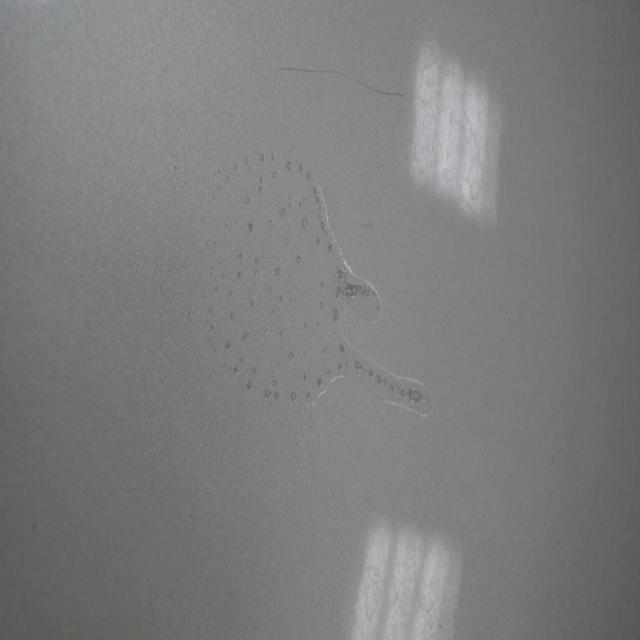runs: (186, 151, 435, 426)
scratch: (276, 59, 406, 102)
water marks: (439, 98, 490, 205), (406, 92, 444, 181), (414, 28, 444, 94)
